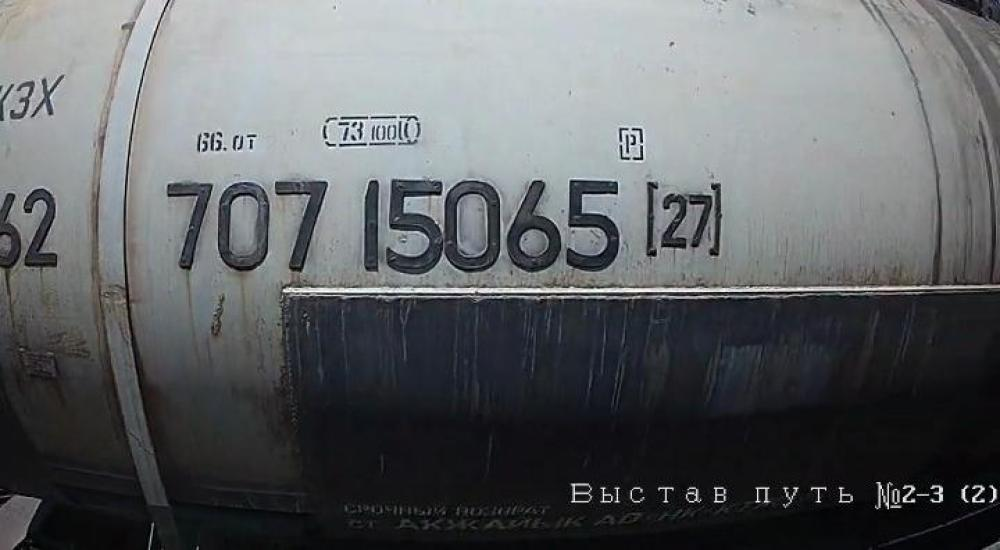Wagon-number: (162, 173, 628, 275)
